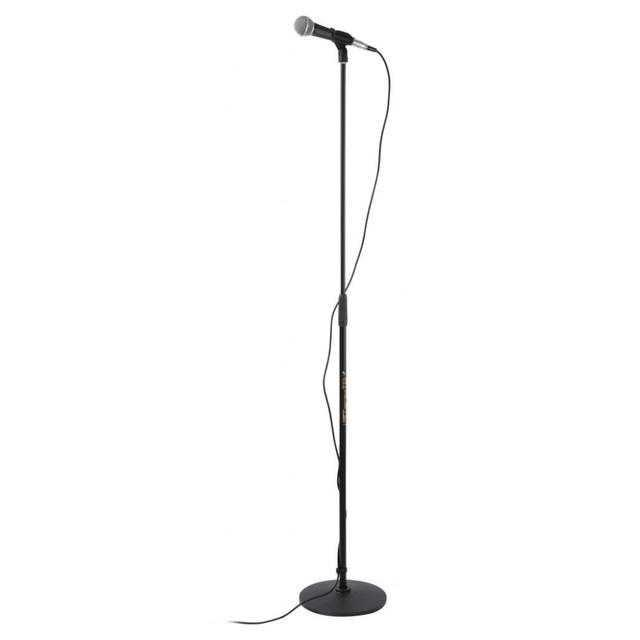microphone: (294, 16, 378, 59)
